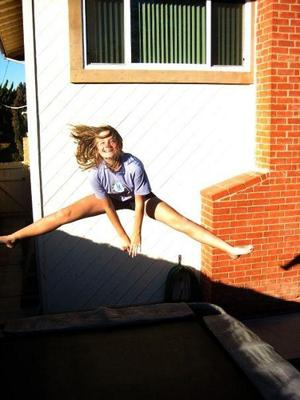person: (1, 122, 254, 264)
